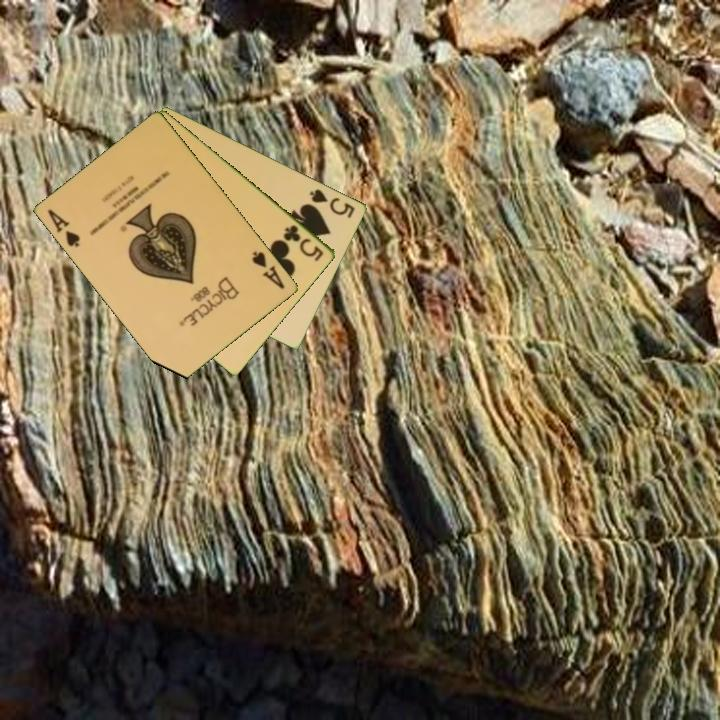5c: (280, 221, 327, 264)
5s: (307, 185, 358, 221)
As: (249, 247, 288, 292), (44, 206, 83, 250)
